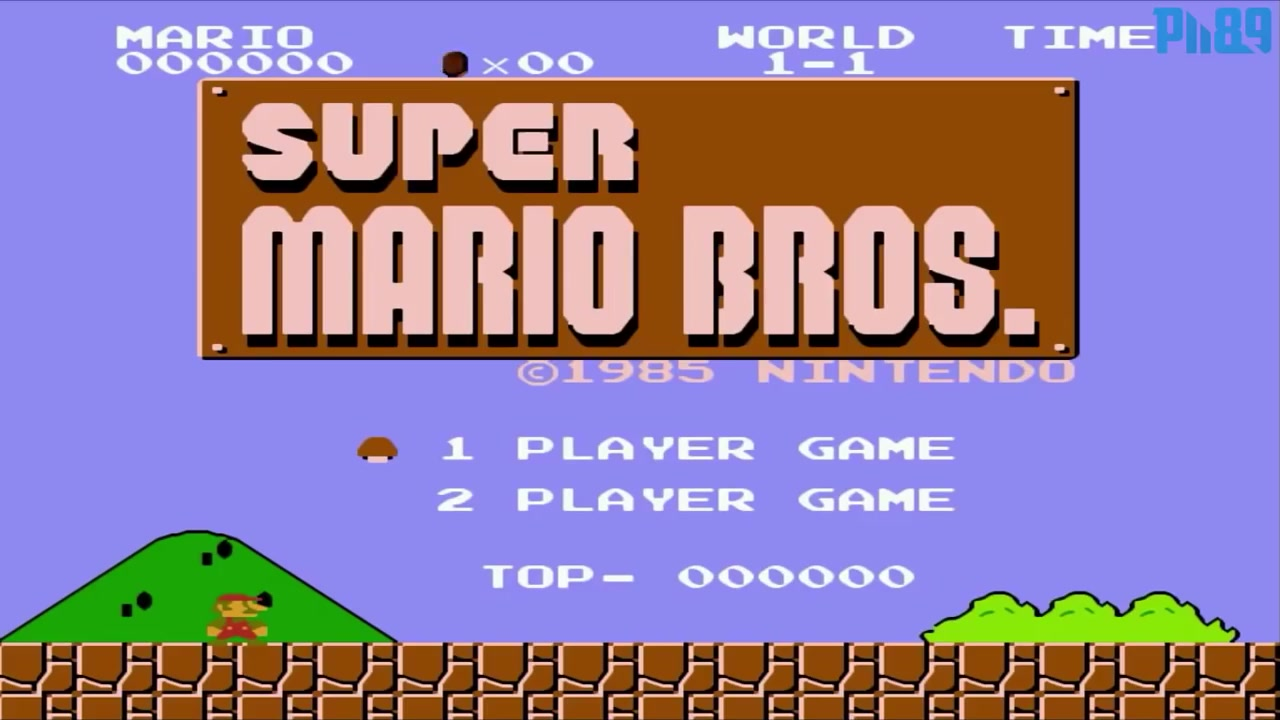mario: (197, 584, 277, 652)
